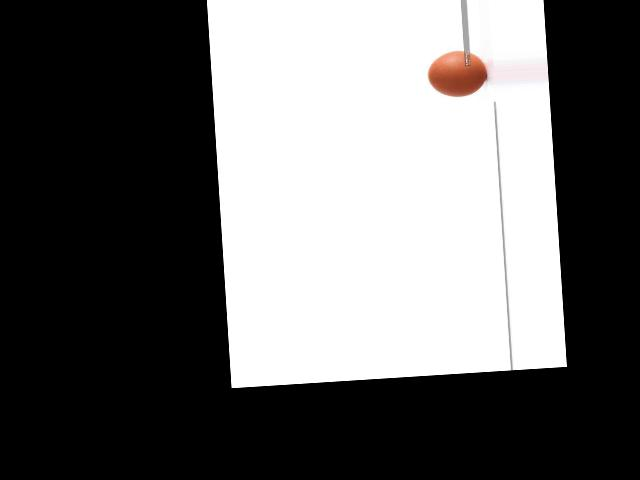egg: (426, 49, 487, 98)
